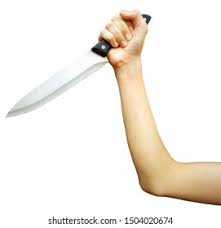weapon-unusual: (1, 7, 156, 120)
